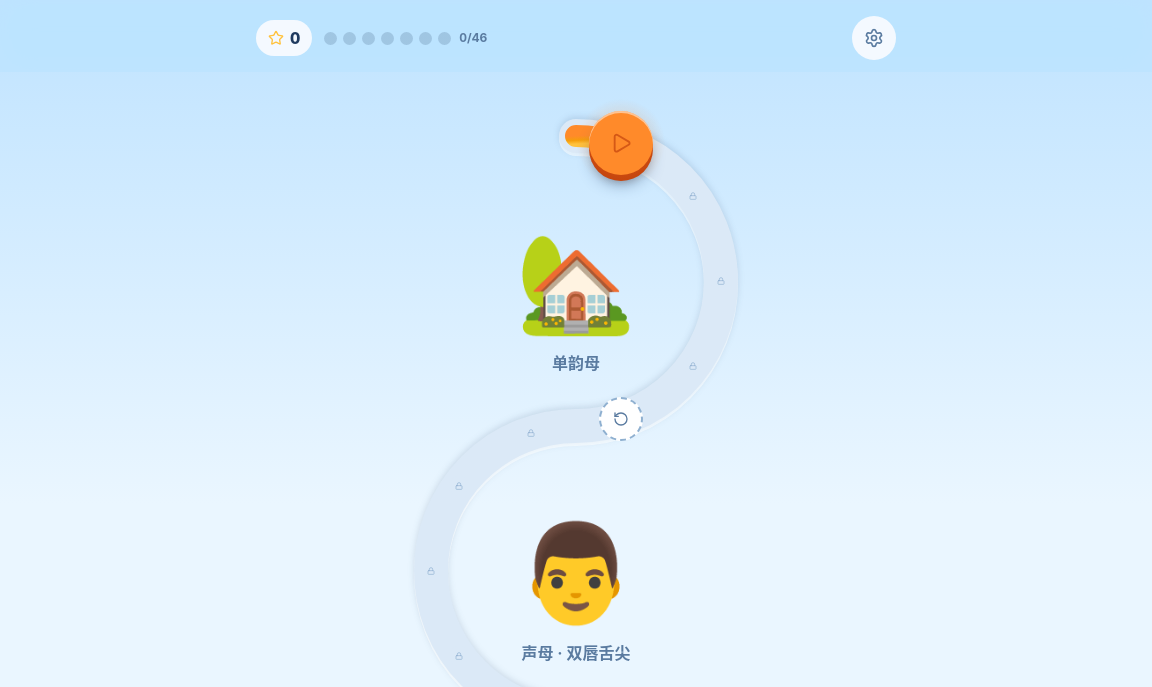
Test: App 路由 › path → lesson:点当前节点进第一节,带题位条与回路径按钮
Click the button named "第 1 节" at [621, 143], box left=589, top=111, right=653, bottom=175
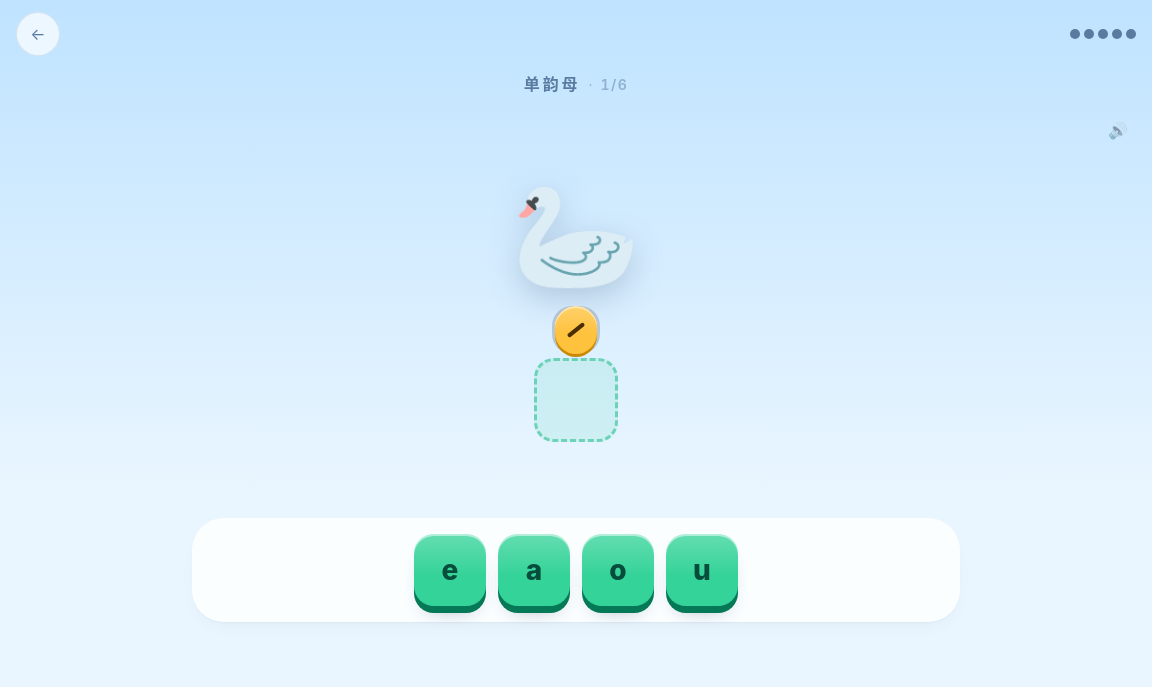
Result: the button named "回路径" is shown at left=16, top=12, right=60, bottom=56
